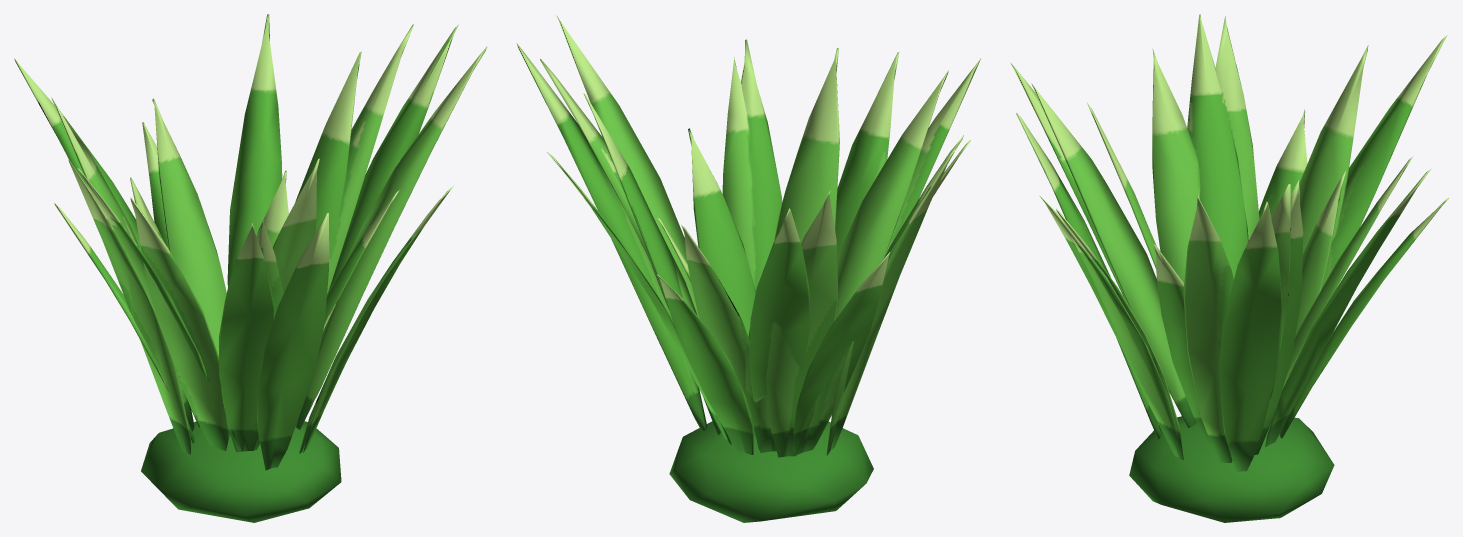
Rendered from TuftGolf.fbx.
3 views of the same model, side by side, from view 1: azimuth 30°, elevation 25°; view 2: azimuth 150°, elevation 25°; view 3: azimuth 270°, elevation 25° (orthographic). The views are drawn at different scales.
Parts seen in each view (by area): view 1: TuftGolf; view 2: TuftGolf; view 3: TuftGolf.
Part boxes in pixels (box(x1,y1,x2,y2)): TuftGolf: box(14, 14, 487, 522); TuftGolf: box(516, 15, 980, 522); TuftGolf: box(1011, 14, 1448, 522).
Bounding box in the file's own units: 1.16 × 1.11 × 1.04.
Materials: 1 (1 with a texture image).
